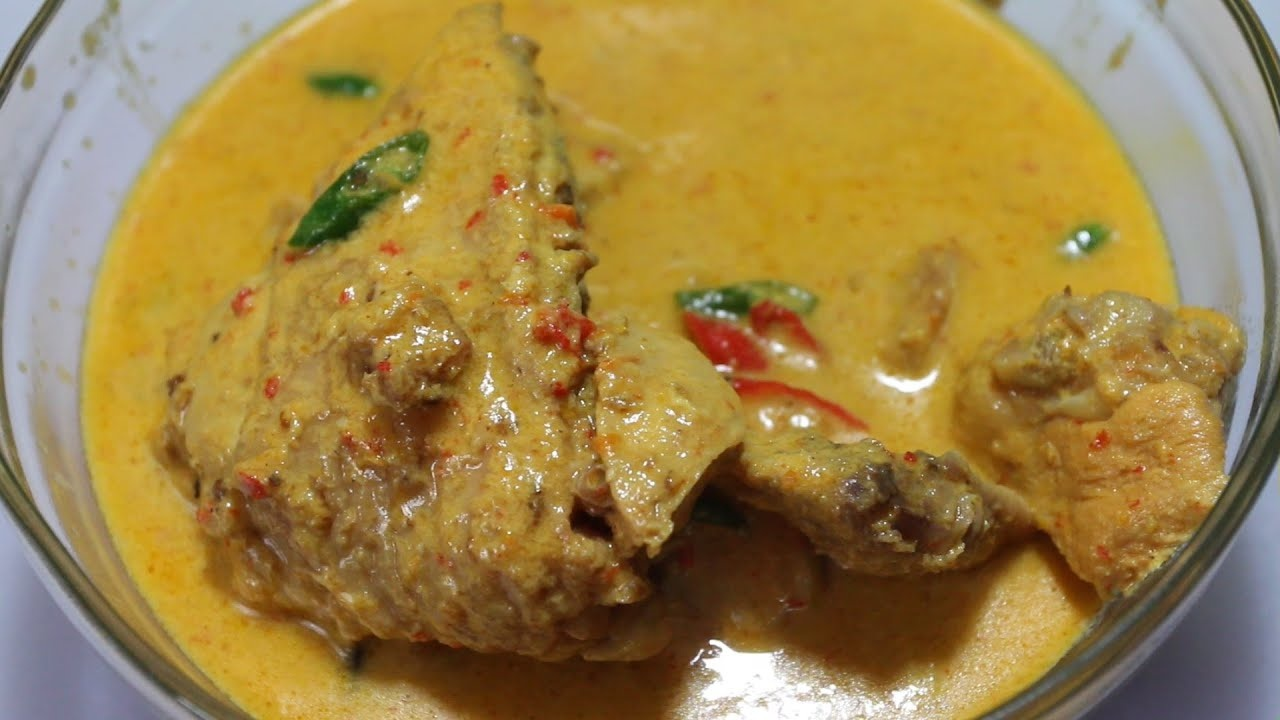gulai_ayam: (85, 5, 1219, 704)
